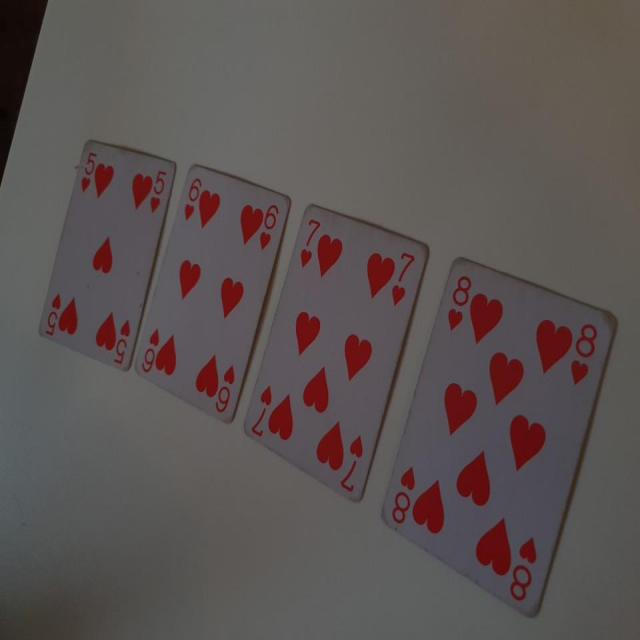5 Hearts: (35, 136, 186, 383)
6 Hearts: (132, 161, 302, 428)
7 Hearts: (232, 198, 440, 510)
8 Hearts: (383, 253, 622, 623)
